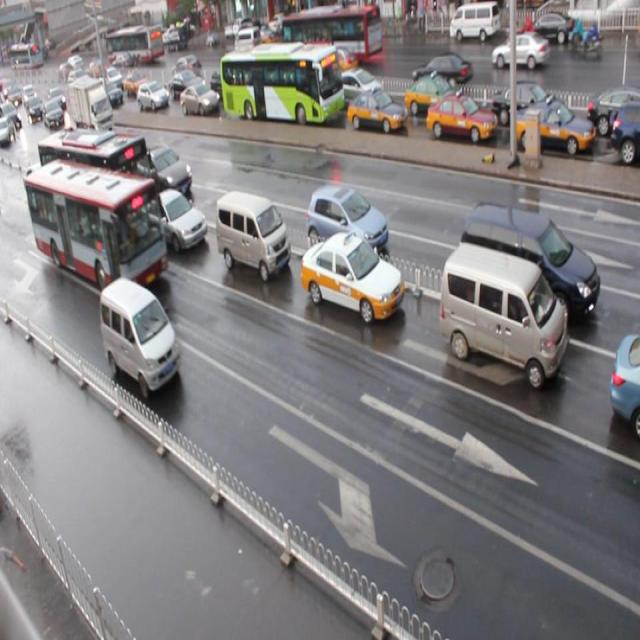bus: (68, 75, 114, 142)
car: (299, 229, 403, 321), (304, 183, 388, 260), (514, 99, 594, 159), (138, 187, 206, 252), (425, 92, 497, 144), (492, 82, 568, 128), (608, 330, 640, 434), (138, 144, 194, 200), (345, 87, 406, 133), (403, 74, 465, 118), (586, 89, 640, 136), (332, 64, 385, 107), (609, 99, 640, 161), (22, 159, 60, 204), (179, 80, 220, 116), (210, 69, 243, 103), (137, 81, 170, 111), (167, 73, 202, 99), (99, 81, 122, 109), (125, 70, 150, 95)
truck: (438, 240, 567, 388), (458, 200, 598, 334), (99, 276, 181, 400), (214, 187, 289, 281)
van: (24, 160, 169, 302), (37, 126, 154, 235), (216, 42, 339, 125)
